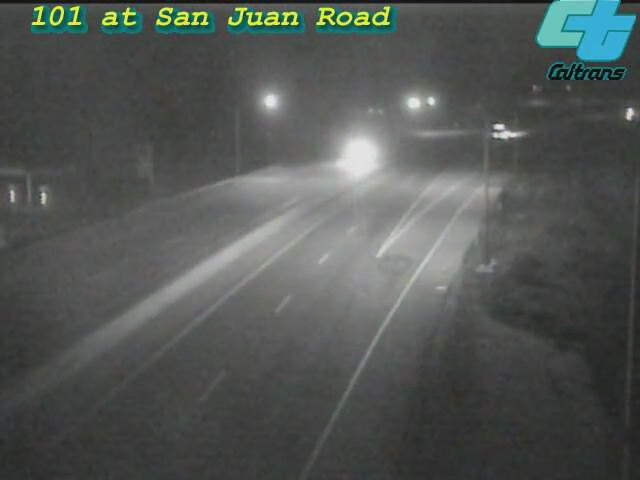vehicle: (328, 129, 378, 179), (485, 106, 535, 156)
